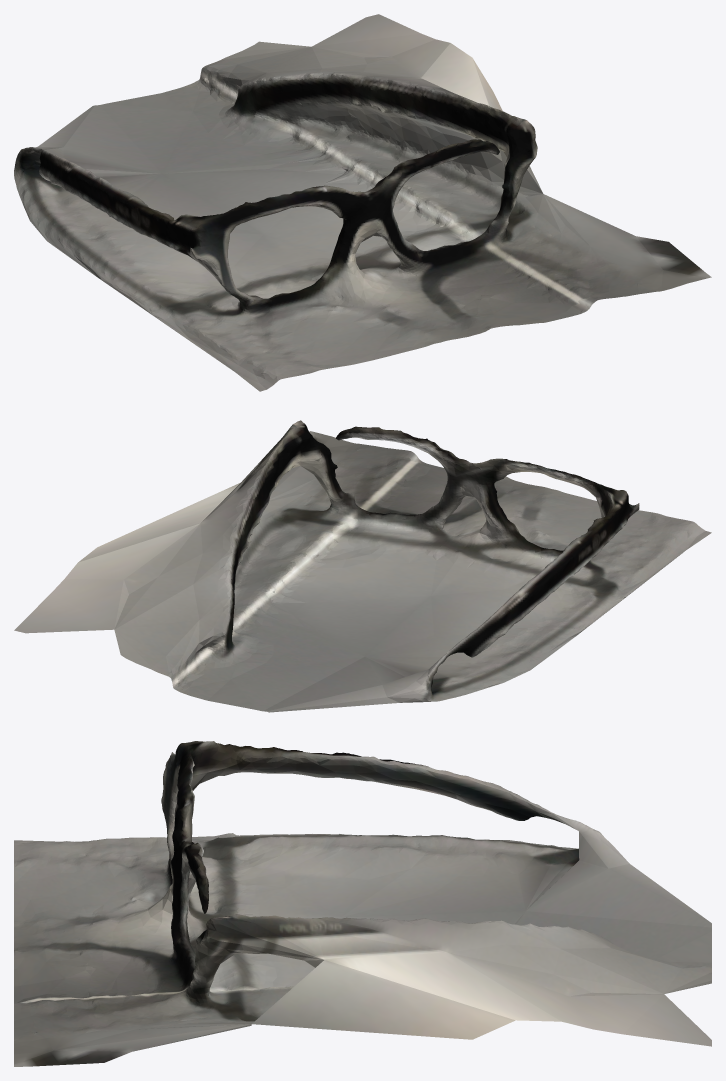
Rendered from 3D Glasses.glb.
The picture shows the model from 3 angles, top to bottom: view 1: azimuth 30°, elevation 25°; view 2: azimuth 150°, elevation 25°; view 3: azimuth 270°, elevation 25°; orthographic projection. The views are drawn at different scales.
Parts seen in each view (by area): view 1: mesh; view 2: mesh; view 3: mesh.
Boxes of the visible parts, left/top/right/bottom form: mesh: left=14, top=14, right=711, bottom=391; mesh: left=14, top=420, right=711, bottom=712; mesh: left=14, top=741, right=711, bottom=1066.
Bounding box in the file's own units: 0.1893 × 0.0458 × 0.2384.
1 material, 1 textured.
